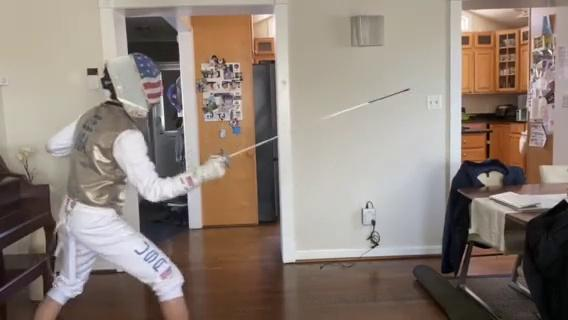blade-guard: (215, 147, 233, 174)
blade-tip: (369, 88, 413, 104)
fencing-blade: (213, 86, 415, 175)
